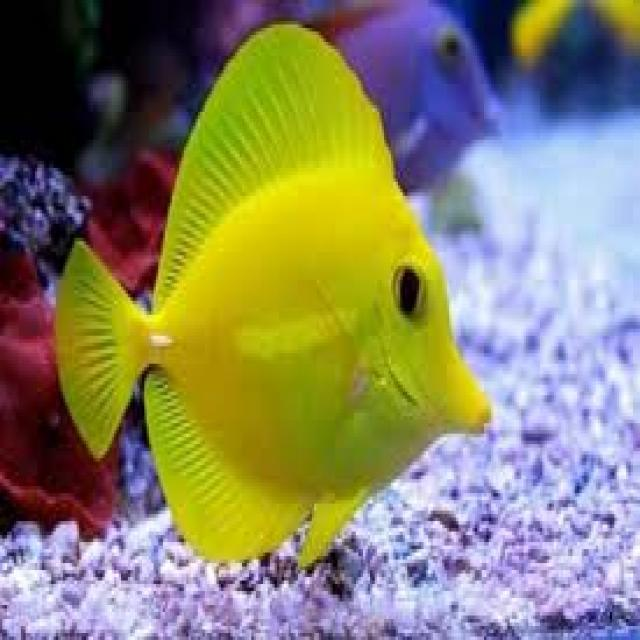YellowTang: (45, 12, 495, 577)
